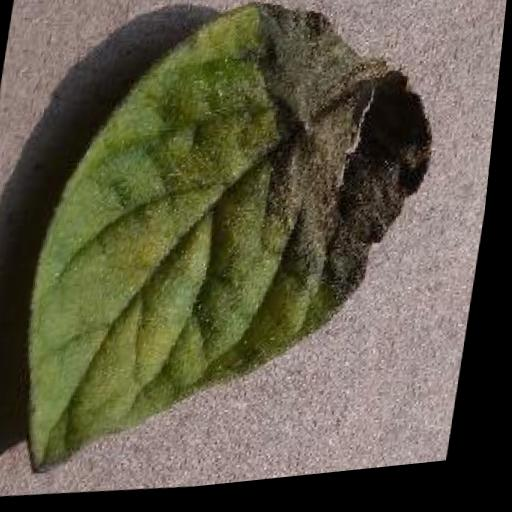Late Blight: (7, 0, 457, 501)
